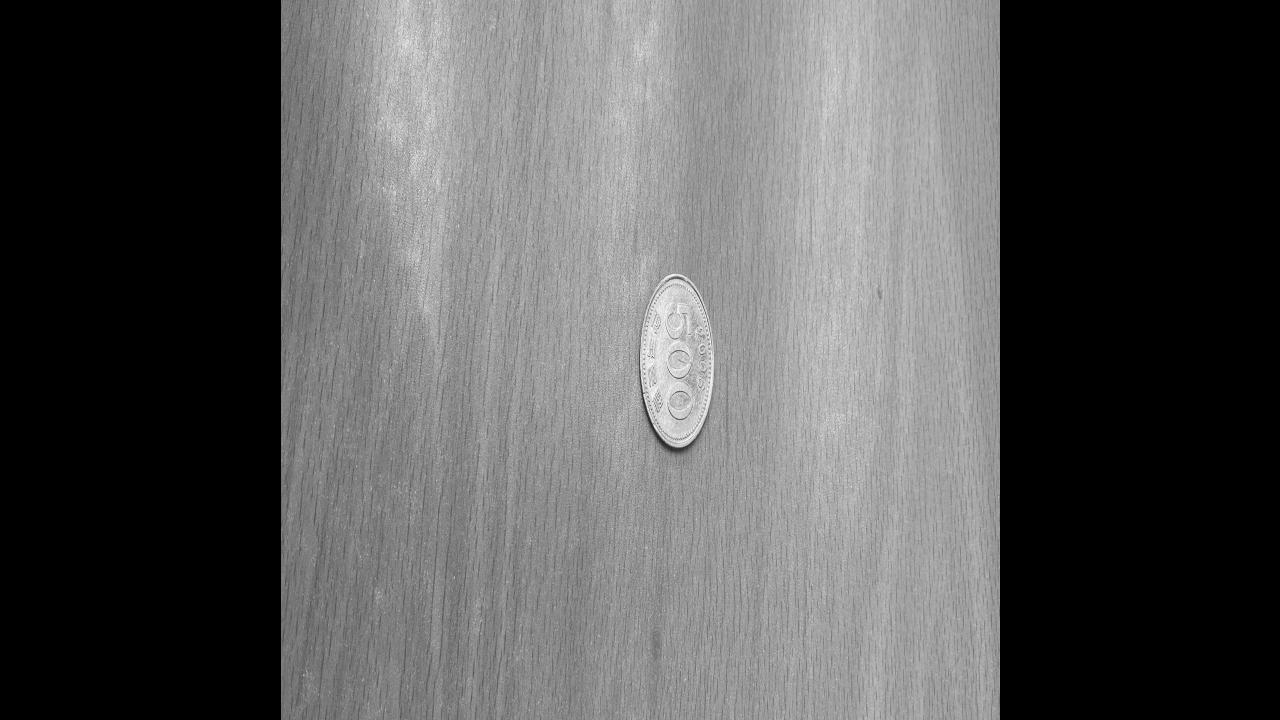coin: (638, 273, 712, 449)
